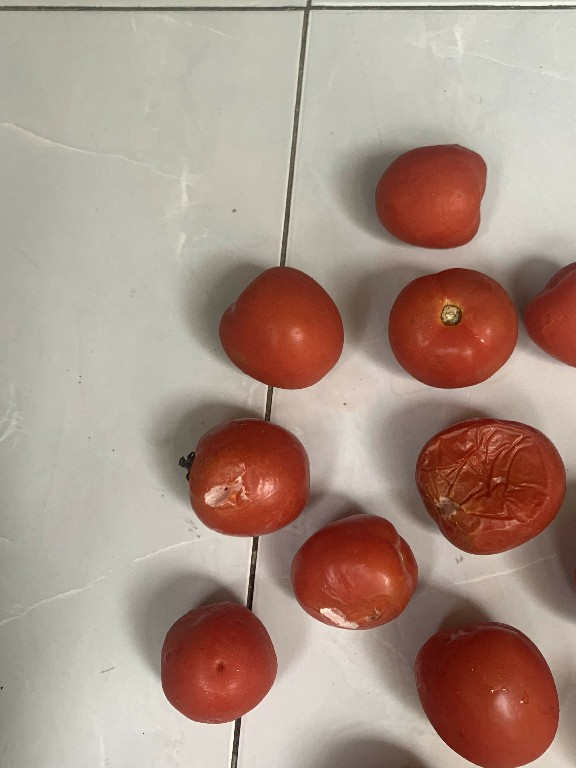NG: (411, 412, 564, 561), (172, 411, 314, 541), (286, 504, 418, 630)
OK: (410, 617, 565, 768), (215, 254, 346, 394), (150, 595, 282, 729), (388, 265, 518, 393), (371, 138, 492, 256), (518, 238, 575, 376)
